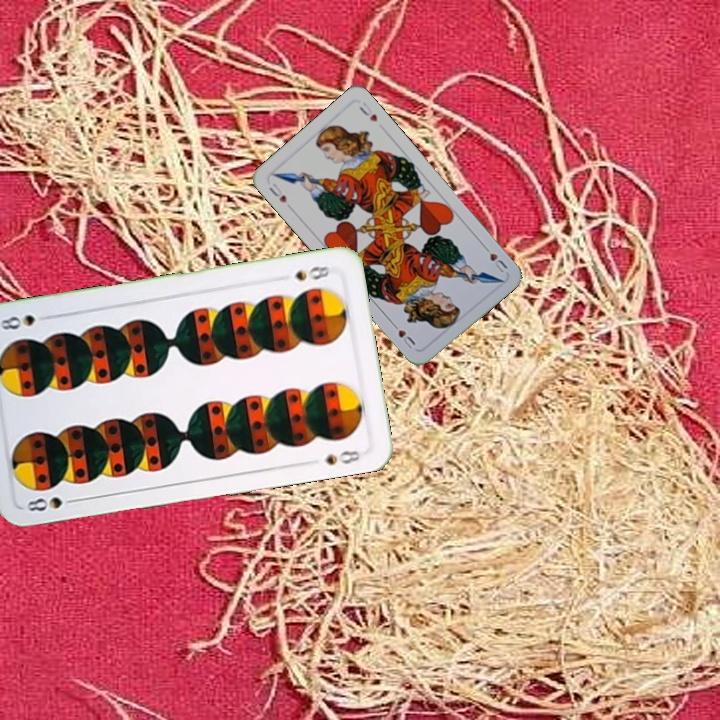HU: (479, 241, 510, 275), (265, 179, 289, 206)
S8: (22, 492, 82, 514), (290, 262, 332, 284)
